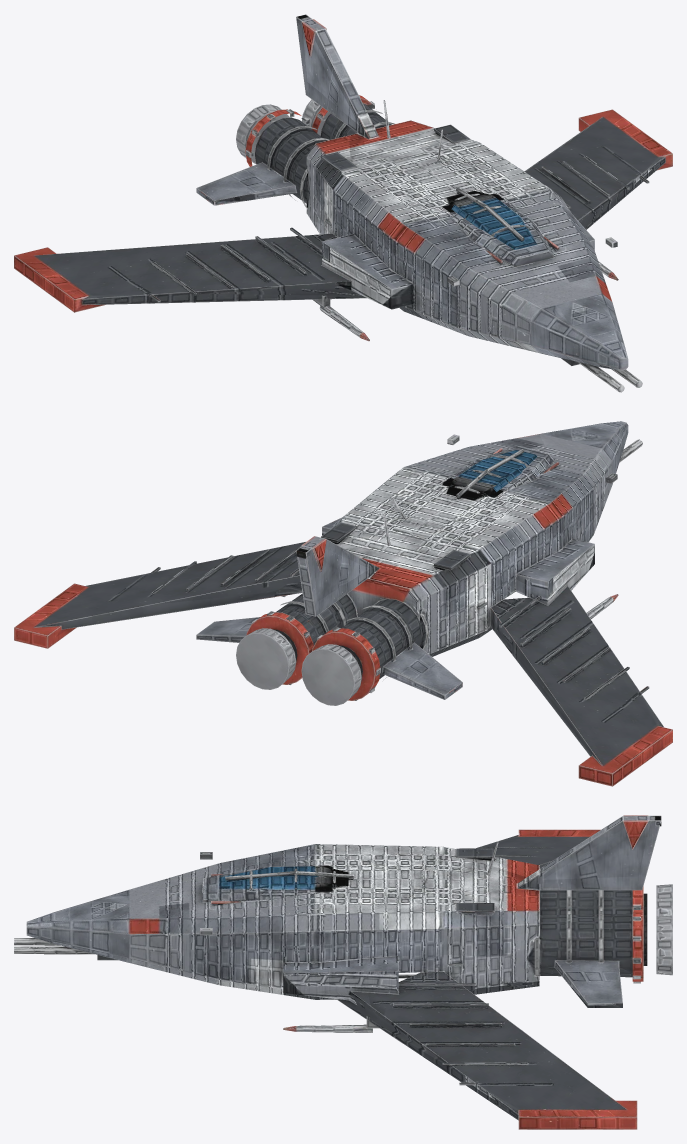
The model's file is sd_ship_sahin_m.glb.
The picture shows the model from 3 angles, top to bottom: view 1: azimuth 30°, elevation 25°; view 2: azimuth 150°, elevation 25°; view 3: azimuth 270°, elevation 25°; orthographic projection.
Parts seen in each view (by area): view 1: LOD0_body, LOD1_body; view 2: LOD0_body, LOD1_body; view 3: LOD0_body, LOD1_body.
Part boxes in pixels (x1,y1,x2,y2): LOD0_body: [14, 14, 672, 392]; LOD1_body: [30, 16, 668, 373]; LOD0_body: [14, 421, 672, 786]; LOD1_body: [30, 423, 663, 767]; LOD0_body: [14, 815, 672, 1129]; LOD1_body: [76, 816, 661, 1114].
Bounding box in the file's own units: 1.03 × 0.2811 × 1.
Materials: 1 (1 with a texture image).
